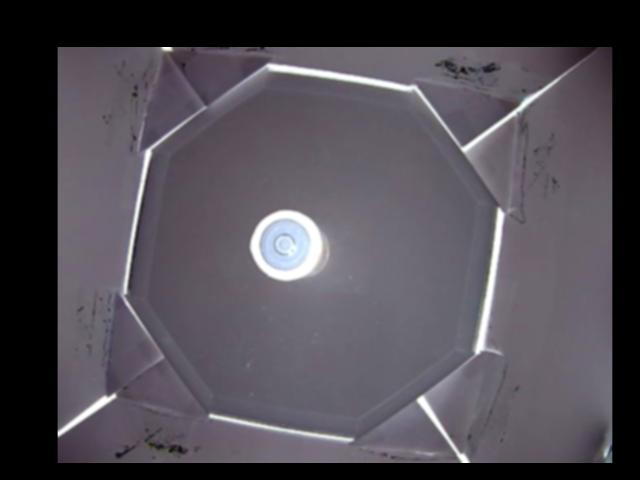Battery: (248, 211, 329, 281)
